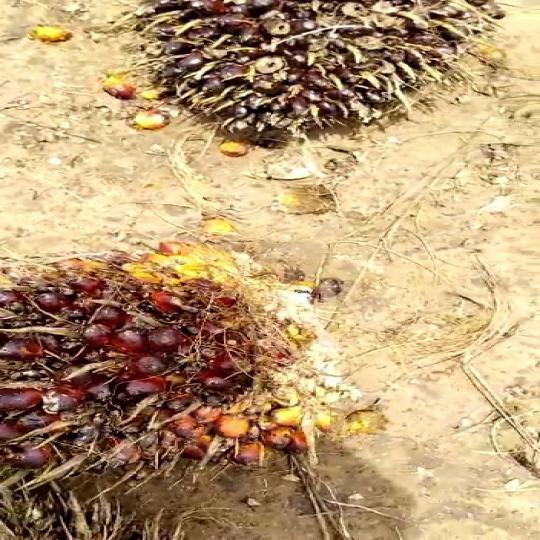kurang masak: (1, 237, 370, 471), (96, 0, 492, 149)
